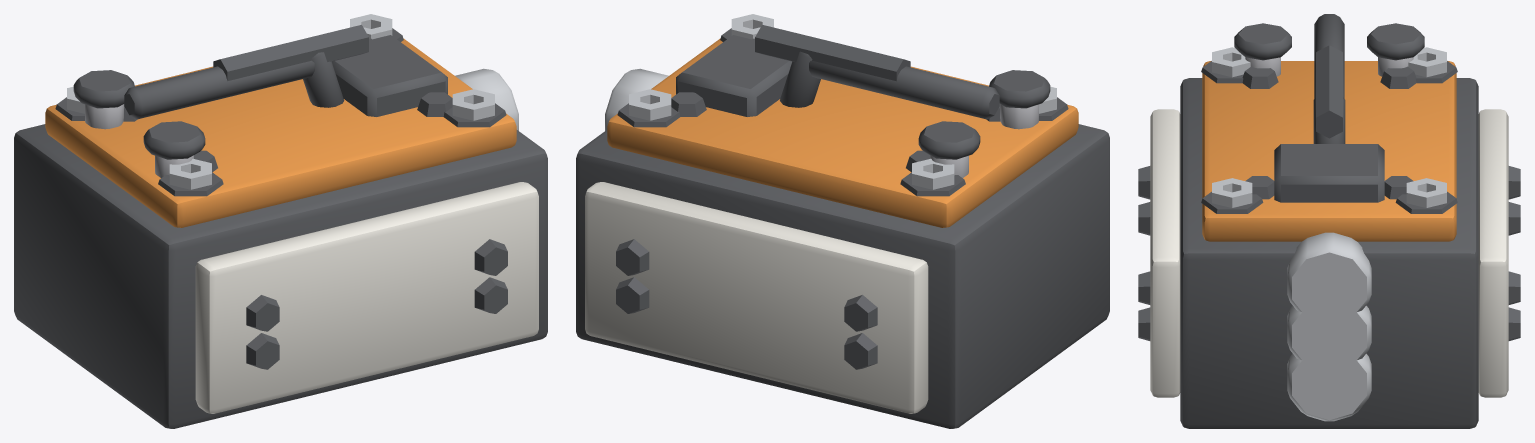
File: spare_battery.glb
3 renders of one model, left to right at view 1: azimuth 30°, elevation 25°; view 2: azimuth 150°, elevation 25°; view 3: azimuth 270°, elevation 25°, orthographic. The views are drawn at different scales.
Visible parts, largest first — view 1: body; view 2: body; view 3: body.
Part boxes in pixels (x1,y1,x2,y2): body: (14, 14, 547, 428); body: (576, 14, 1109, 428); body: (1138, 14, 1520, 428).
Bounding box in the file's own units: 0.203 × 0.135 × 0.173.
